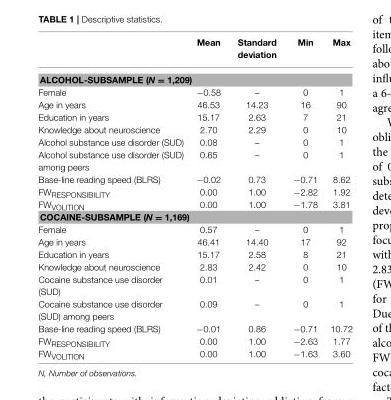table: (37, 37, 351, 360)
table column: (37, 37, 189, 360), (228, 37, 284, 360), (189, 37, 228, 360), (284, 37, 323, 360), (323, 37, 351, 360)
table column header: (37, 37, 351, 67)
table projected row header: (37, 67, 351, 85), (37, 211, 351, 223)
table row: (37, 37, 351, 67), (37, 148, 351, 173), (37, 297, 351, 322), (37, 273, 351, 297), (37, 67, 351, 85), (37, 185, 351, 199), (37, 334, 351, 348), (37, 85, 351, 98), (37, 110, 351, 123), (37, 135, 351, 148), (37, 235, 351, 248), (37, 260, 351, 273), (37, 98, 351, 110), (37, 123, 351, 135), (37, 173, 351, 185), (37, 199, 351, 211), (37, 211, 351, 223), (37, 223, 351, 235), (37, 248, 351, 260), (37, 322, 351, 334), (37, 348, 351, 360)
